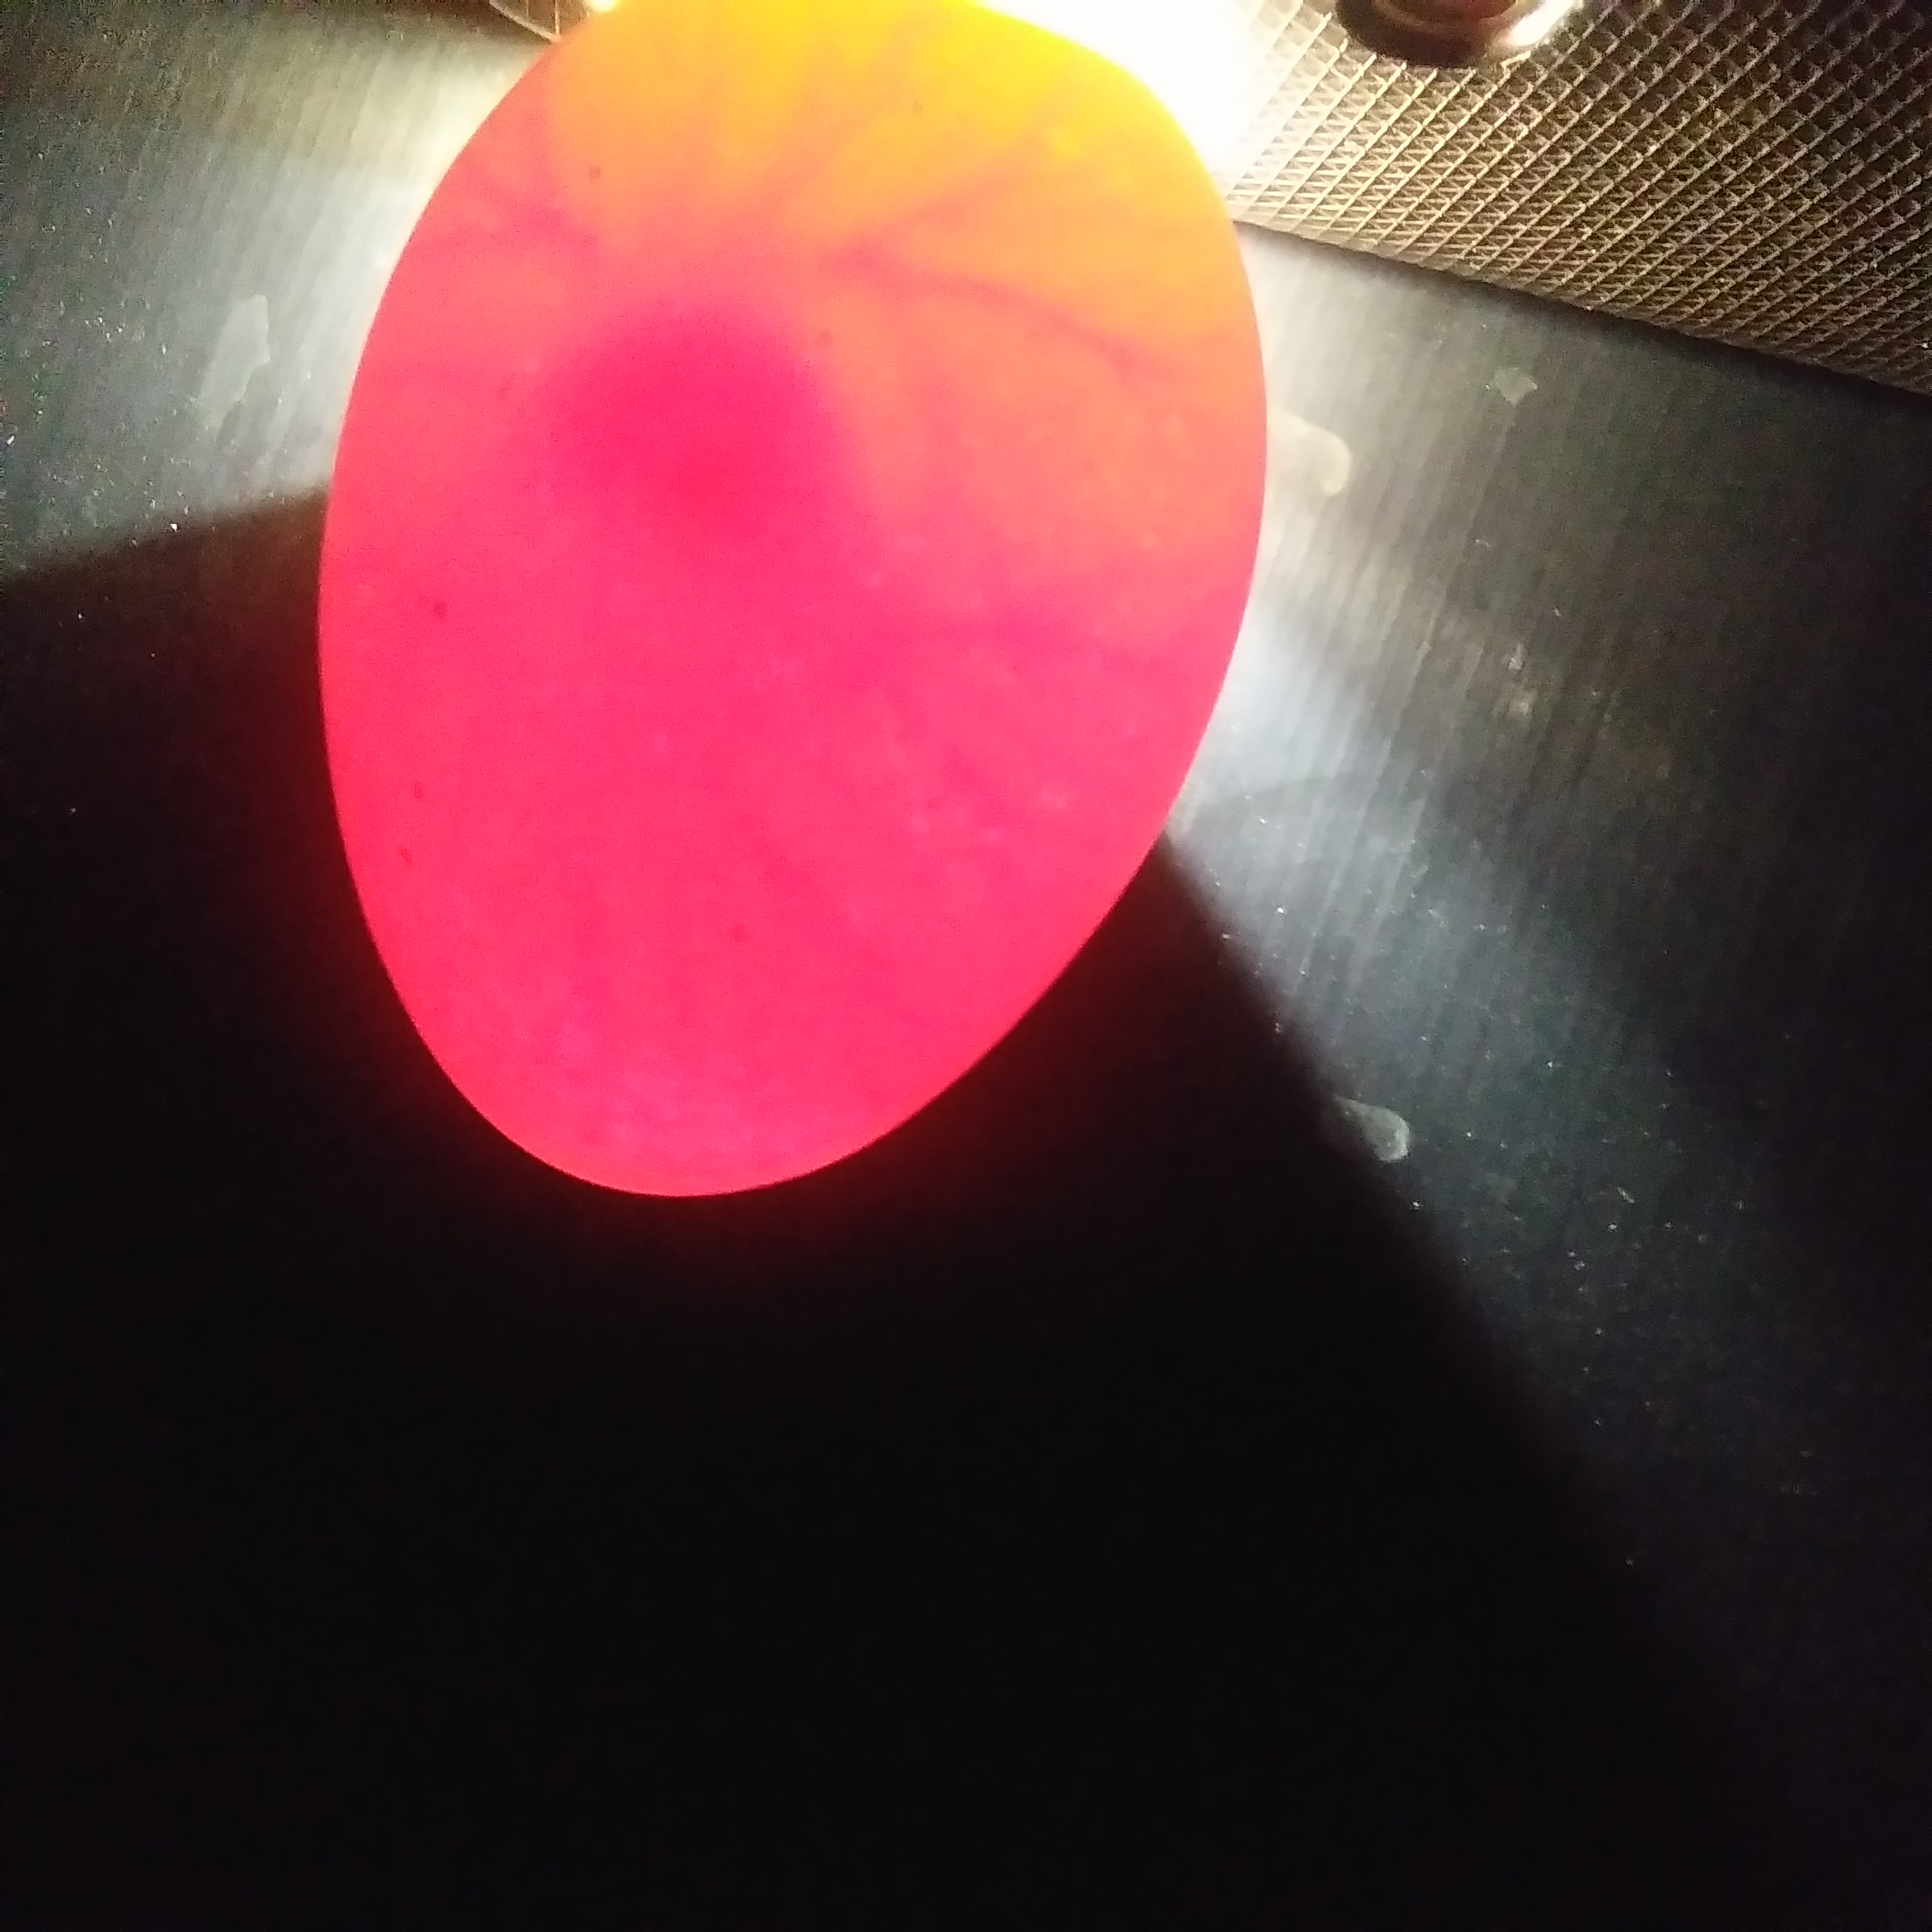bloodcell: (897, 262, 1191, 775), (533, 87, 1097, 244)
embryo: (593, 285, 828, 497)
